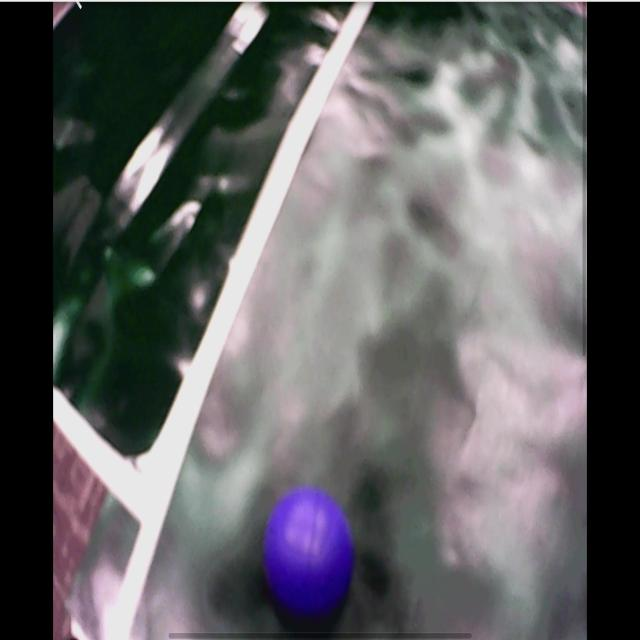ball: (265, 488, 351, 614)
